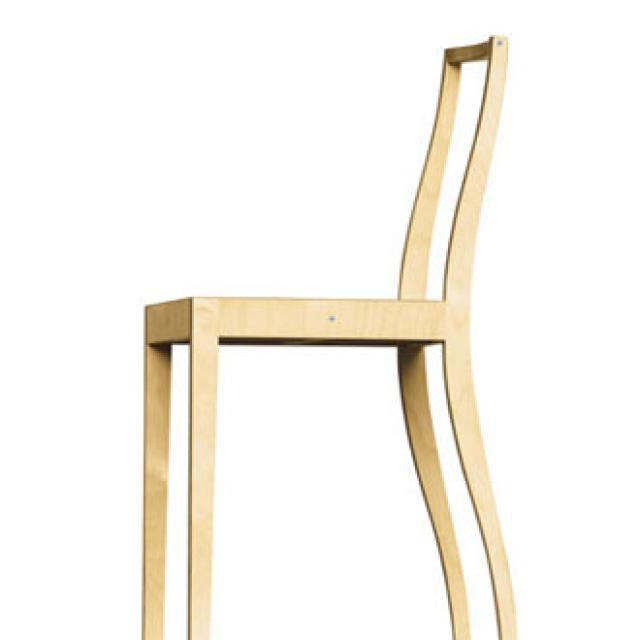chair: (136, 33, 529, 638)
